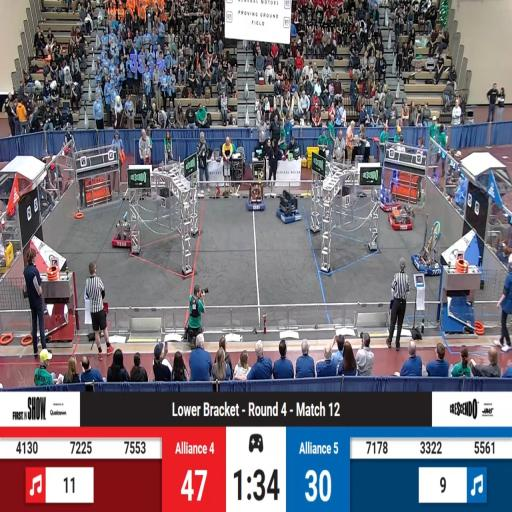robot: (411, 220, 443, 274), (111, 198, 141, 250), (276, 191, 301, 223), (388, 206, 414, 232), (376, 188, 400, 212), (247, 184, 265, 211)
